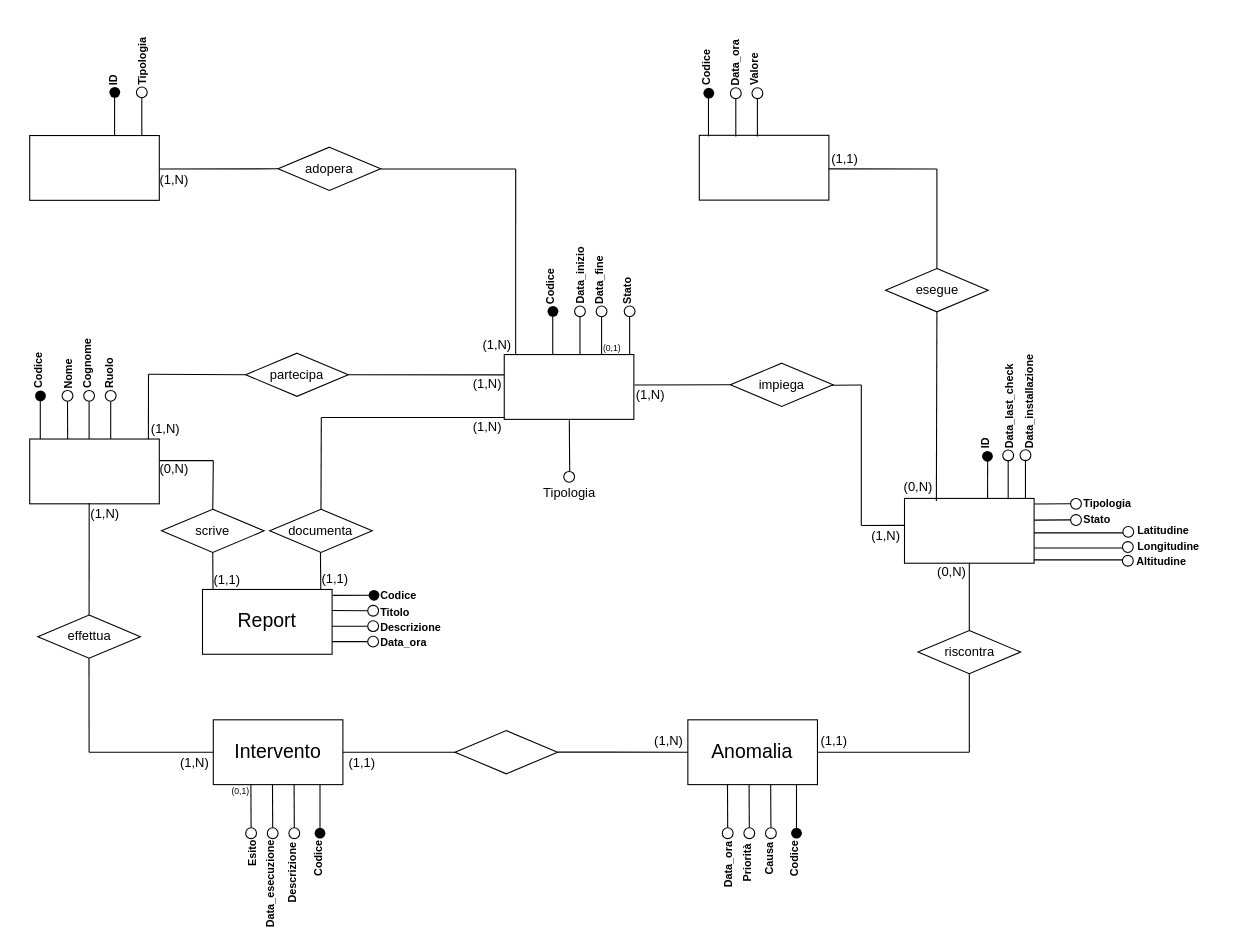
The diagram is 1258 pixels wide and 949 high, and some of its shapes have lost their labels. The shapes that lost their labels are listed below. From the top down, each one's centre as x and y in pixels, then its label:
At pixel 94 167: "Robot".
At pixel 763 167: "Rivelazione".
At pixel 568 386: "Missione".
At pixel 94 471: "Equipaggio".
At pixel 968 530: "Sensore".
At pixel 506 752: "risolve".
